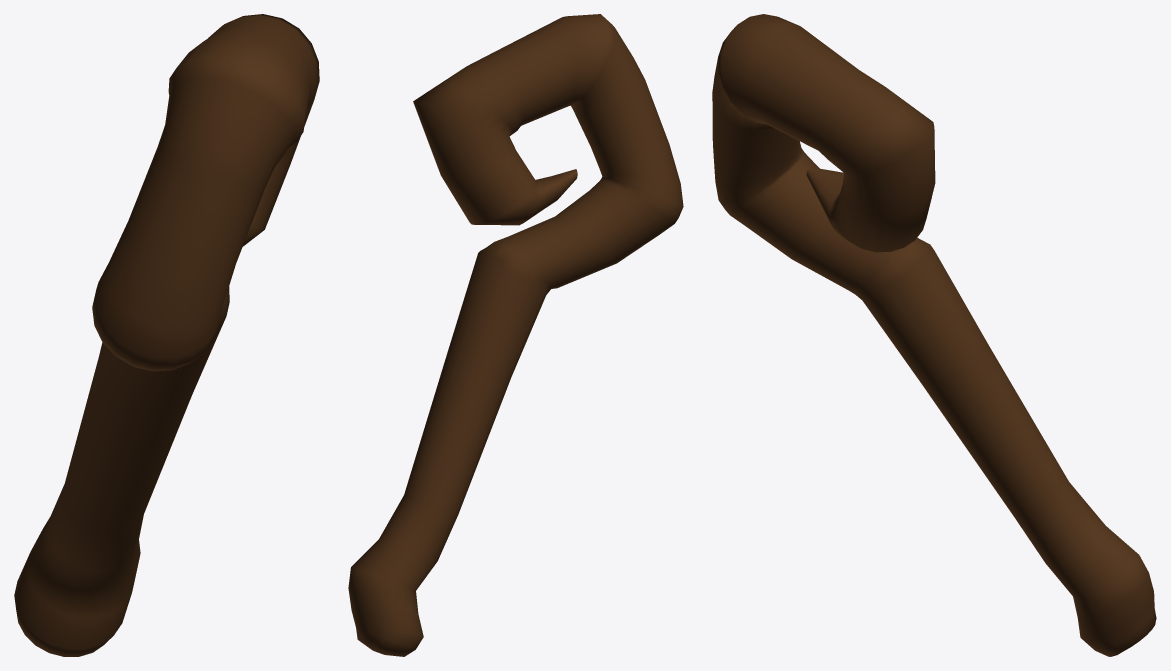
Rendered from wand.obj.
3 views of the same model, side by side, from view 1: azimuth 30°, elevation 25°; view 2: azimuth 150°, elevation 25°; view 3: azimuth 270°, elevation 25° (orthographic). The views are drawn at different scales.
Visible parts, largest first — view 1: wand:pCylinder1 group4; view 2: wand:pCylinder1 group4; view 3: wand:pCylinder1 group4.
Boxes of the visible parts, x1,y1,x2,y2 form: wand:pCylinder1 group4: (14,14,319,656); wand:pCylinder1 group4: (348,14,683,656); wand:pCylinder1 group4: (712,14,1156,656).
Bounding box in the file's own units: 1.71 × 4.32 × 2.87.
